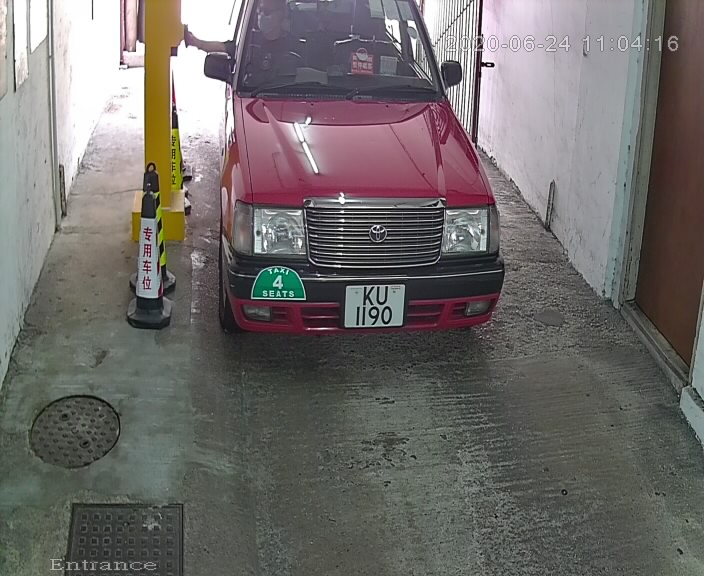Car: (191, 1, 521, 363)
License Plate: (340, 280, 411, 333)
